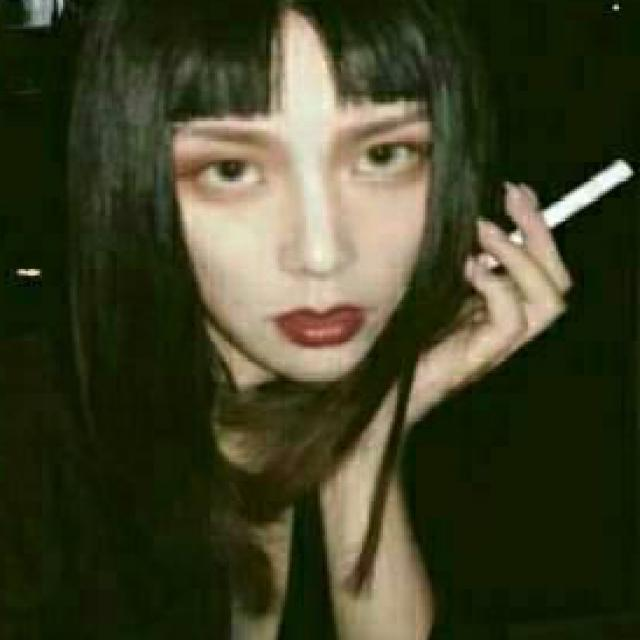smoking: (477, 160, 634, 276)
